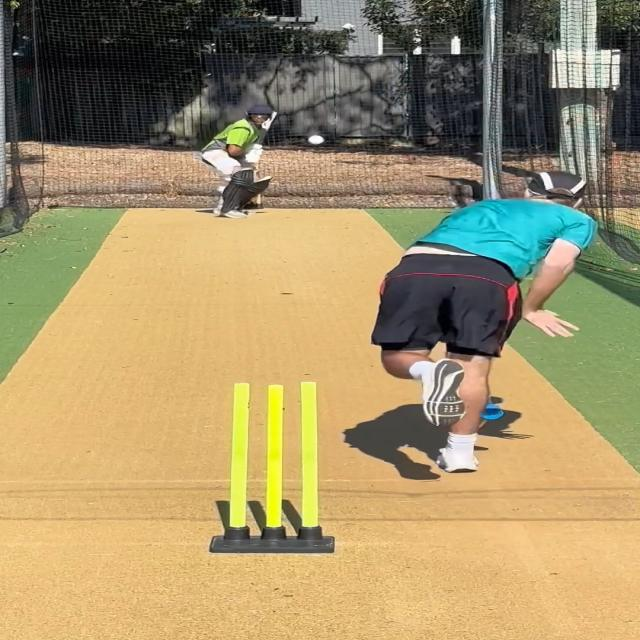ball: (305, 134, 326, 147)
stump: (206, 380, 336, 554)
